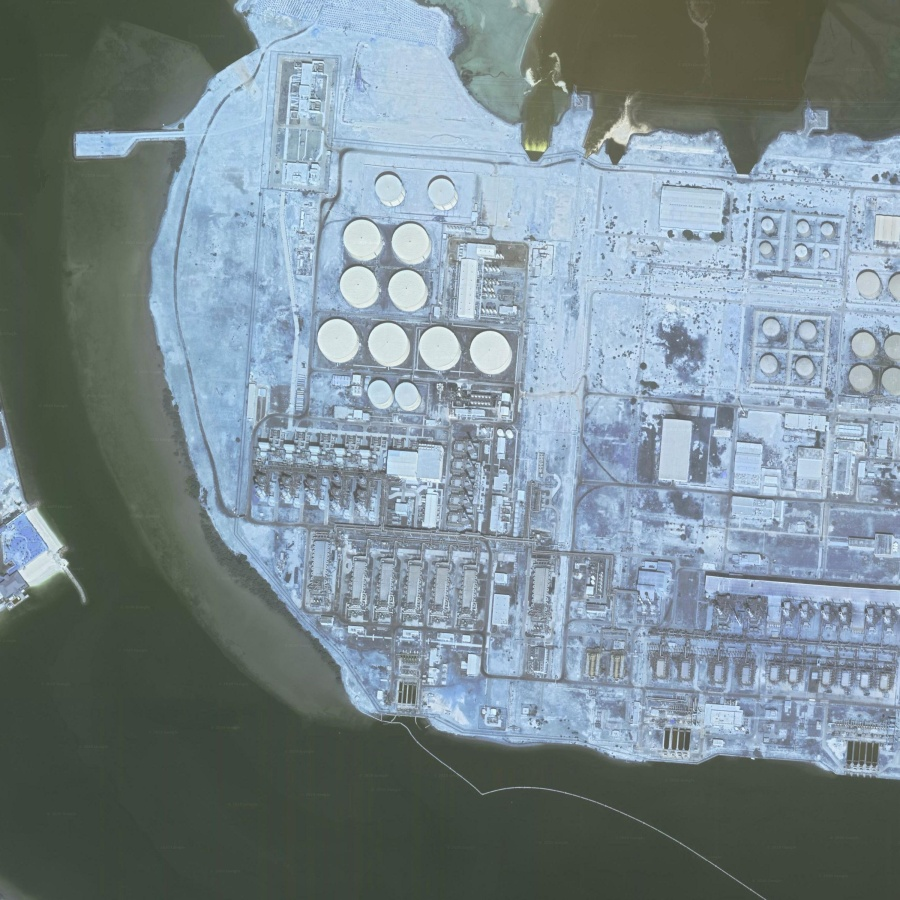PowerPlant: (245, 159, 545, 548)
